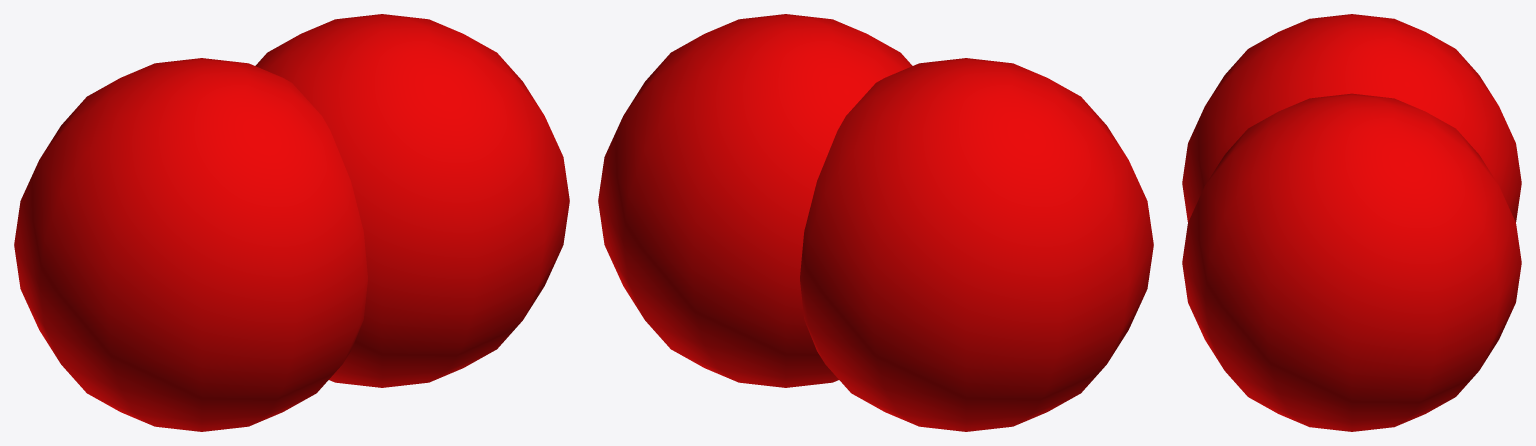
Rendered from oxygen.fbx.
3 renders of one model, left to right at view 1: azimuth 30°, elevation 25°; view 2: azimuth 150°, elevation 25°; view 3: azimuth 270°, elevation 25°, orthographic. The views are drawn at different scales.
Parts seen in each view (by area): view 1: oxygen; view 2: oxygen; view 3: oxygen.
Part boxes in pixels (x1,y1,x2,y2): oxygen: [14, 14, 569, 431]; oxygen: [598, 14, 1153, 431]; oxygen: [1182, 14, 1521, 431].
Size of the model in its own units: 3.11 by 2 by 2.
